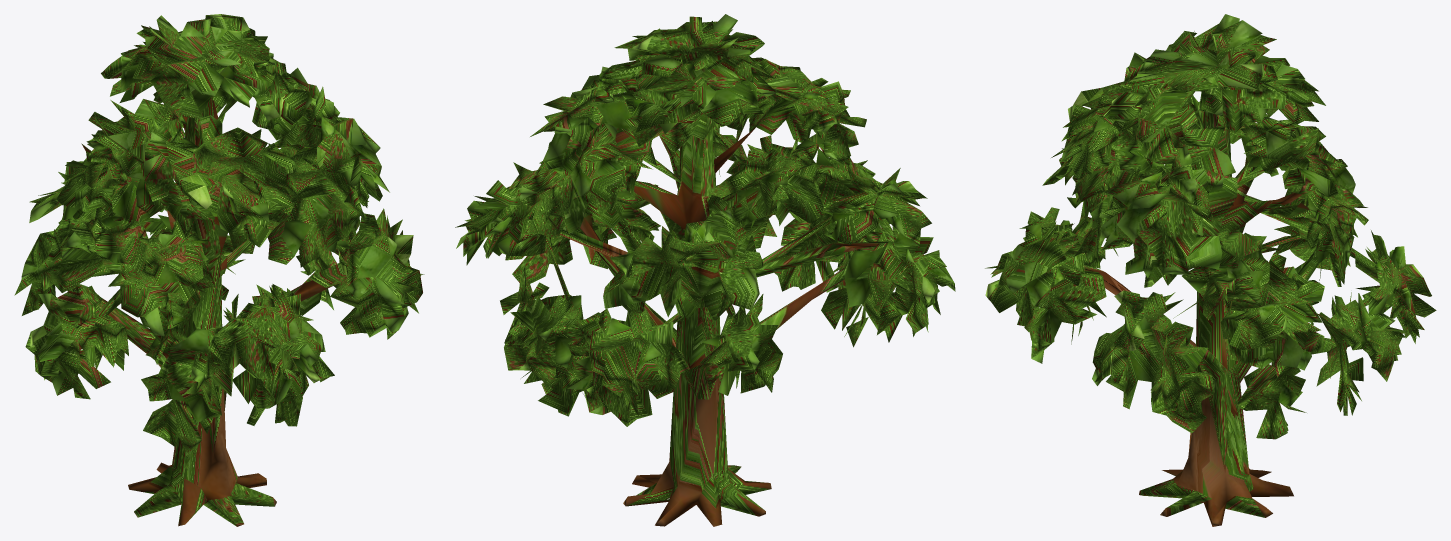
Rendered from forest-tree-lod.glb.
3 views of the same model, side by side, from view 1: azimuth 30°, elevation 25°; view 2: azimuth 150°, elevation 25°; view 3: azimuth 270°, elevation 25° (orthographic). The views are drawn at different scales.
Parts seen in each view (by area): view 1: tripo_node_52eb08d8-8cfa-4fd5-bb5c-90acb7fa84a7; view 2: tripo_node_52eb08d8-8cfa-4fd5-bb5c-90acb7fa84a7; view 3: tripo_node_52eb08d8-8cfa-4fd5-bb5c-90acb7fa84a7.
Boxes of the visible parts, x1,y1,x2,y2 form: tripo_node_52eb08d8-8cfa-4fd5-bb5c-90acb7fa84a7: (14, 14, 424, 526); tripo_node_52eb08d8-8cfa-4fd5-bb5c-90acb7fa84a7: (455, 14, 955, 526); tripo_node_52eb08d8-8cfa-4fd5-bb5c-90acb7fa84a7: (985, 14, 1436, 526).
Size of the model in its own units: 0.8765 by 0.9716 by 0.8558.
1 material, 1 textured.
